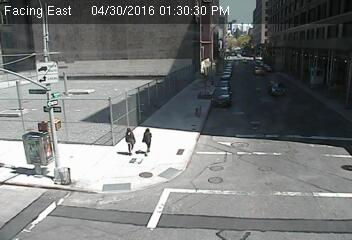neg: (13, 128, 45, 171), (153, 45, 185, 87), (76, 80, 105, 118), (296, 52, 324, 90), (304, 142, 329, 176), (39, 83, 62, 112), (202, 159, 224, 188), (133, 166, 153, 193), (105, 179, 124, 205), (251, 54, 270, 80), (194, 100, 212, 124), (116, 45, 134, 69), (226, 83, 243, 105), (58, 166, 74, 188), (173, 191, 189, 213), (41, 49, 55, 68)
pos: (117, 124, 139, 154), (141, 126, 159, 150)
